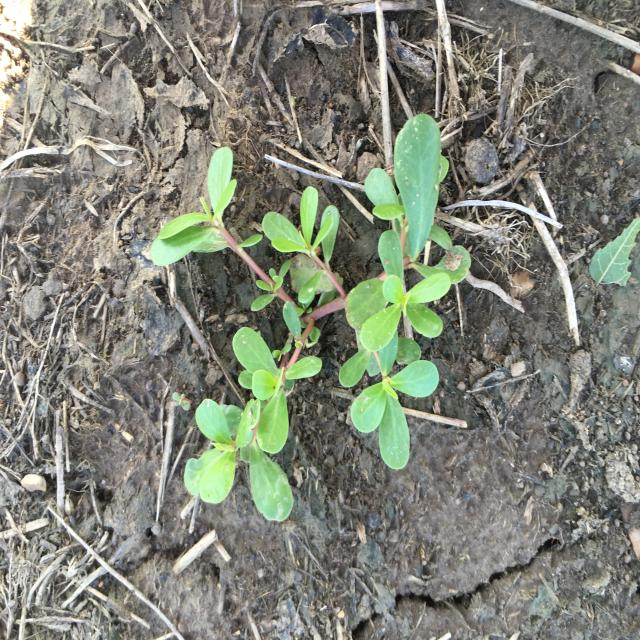Purslane: (150, 114, 471, 522)
